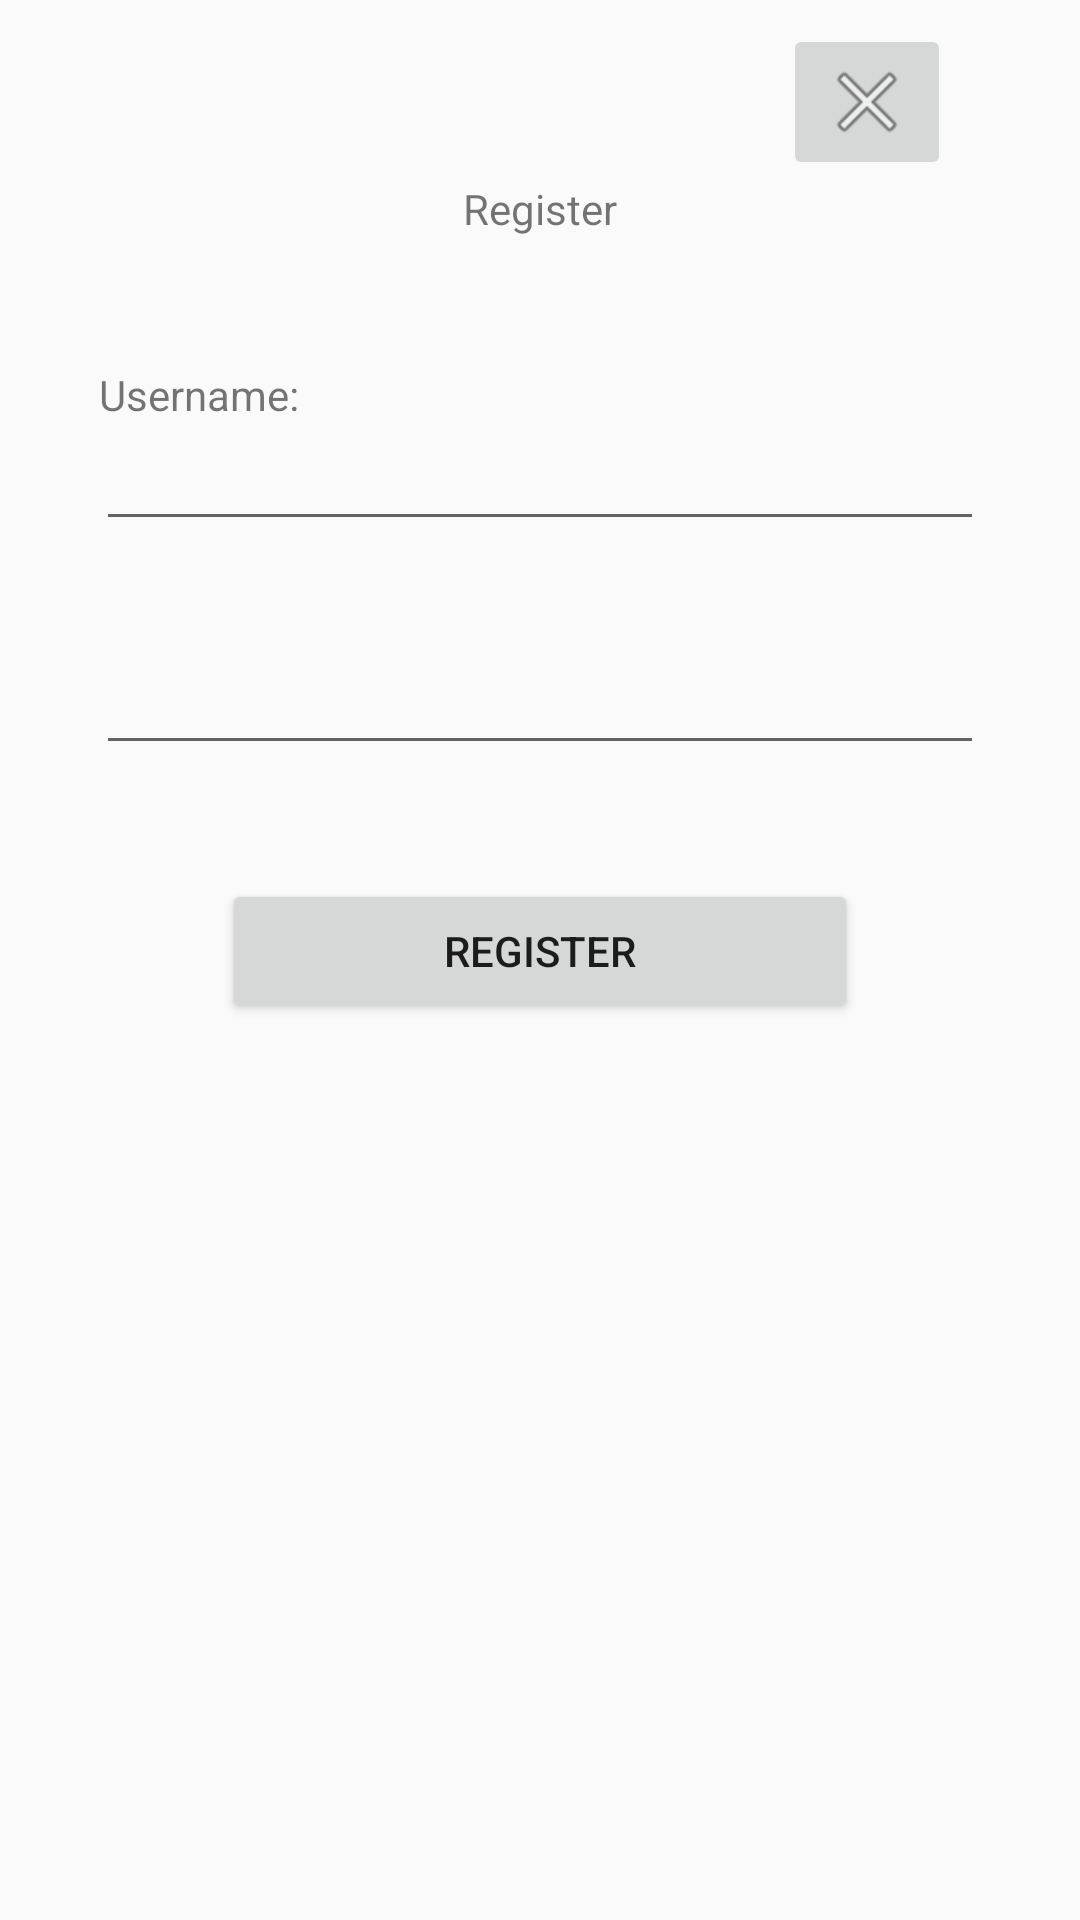

Icons on this 1080 × 1920 Android screen, each with its box as detection(x1, y1, x2, y2):
close clear cancel: detection(795, 42, 939, 162)
